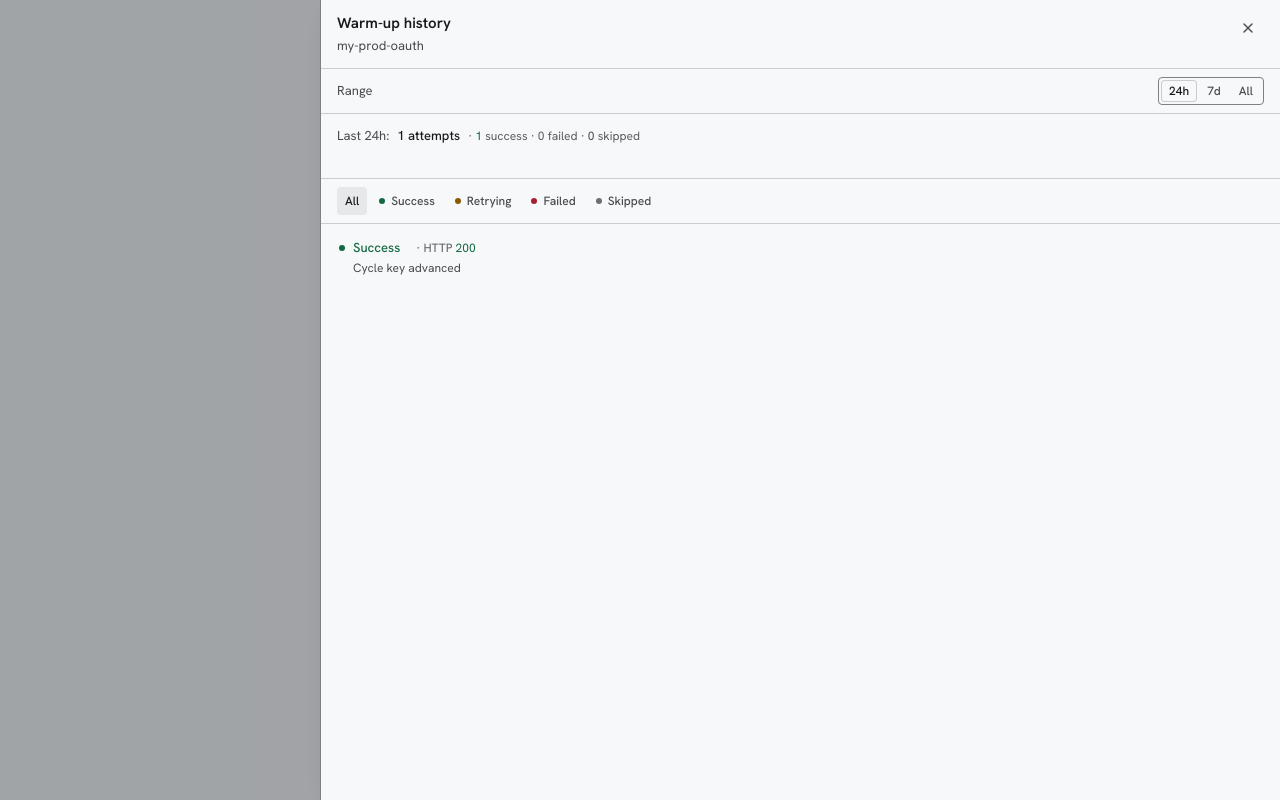
WarmupHistoryDrawer outcome colors › HTTP 200 carries its semantic color in list and detail
Click the button "Success · HTTP 200 Cycle key advanced": coordinates (377, 248) [329,232,1272,282]
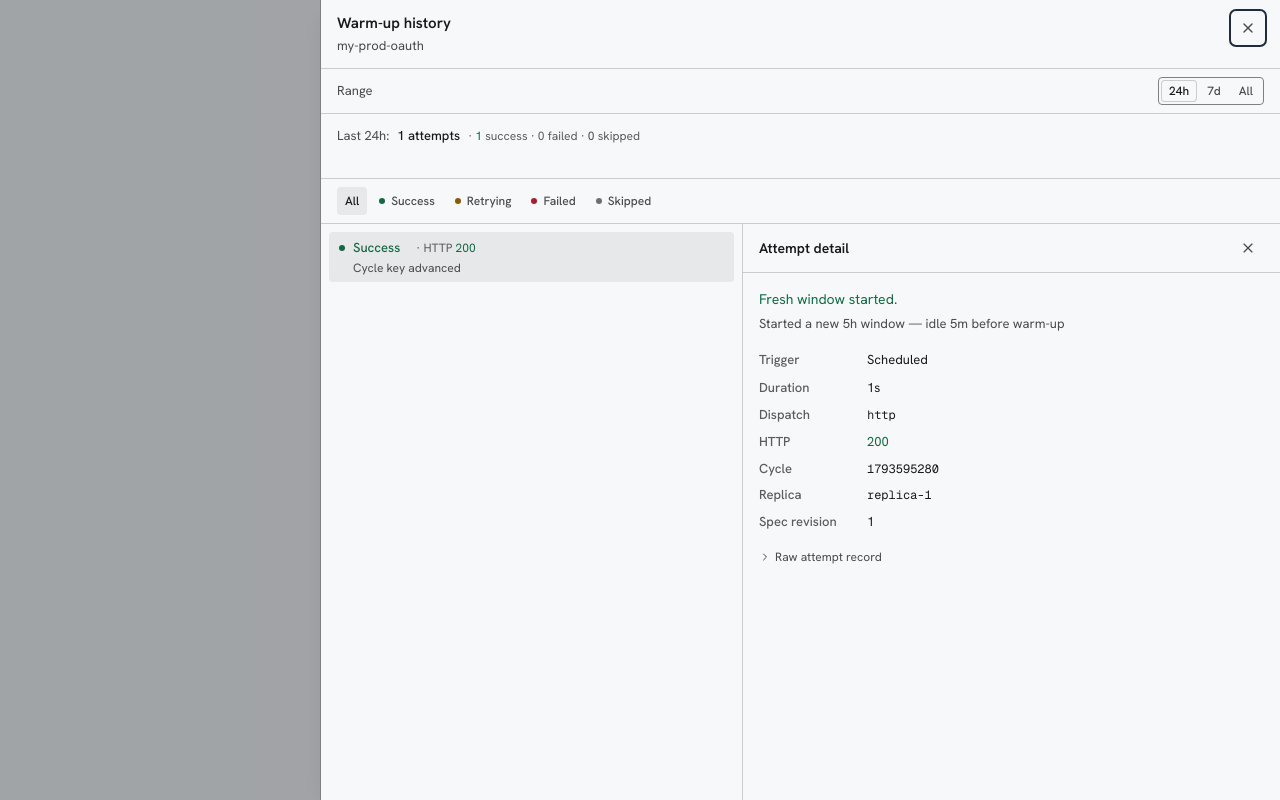
Now the text "200" below "Dispatch" is shown, box [867,433,889,450]
